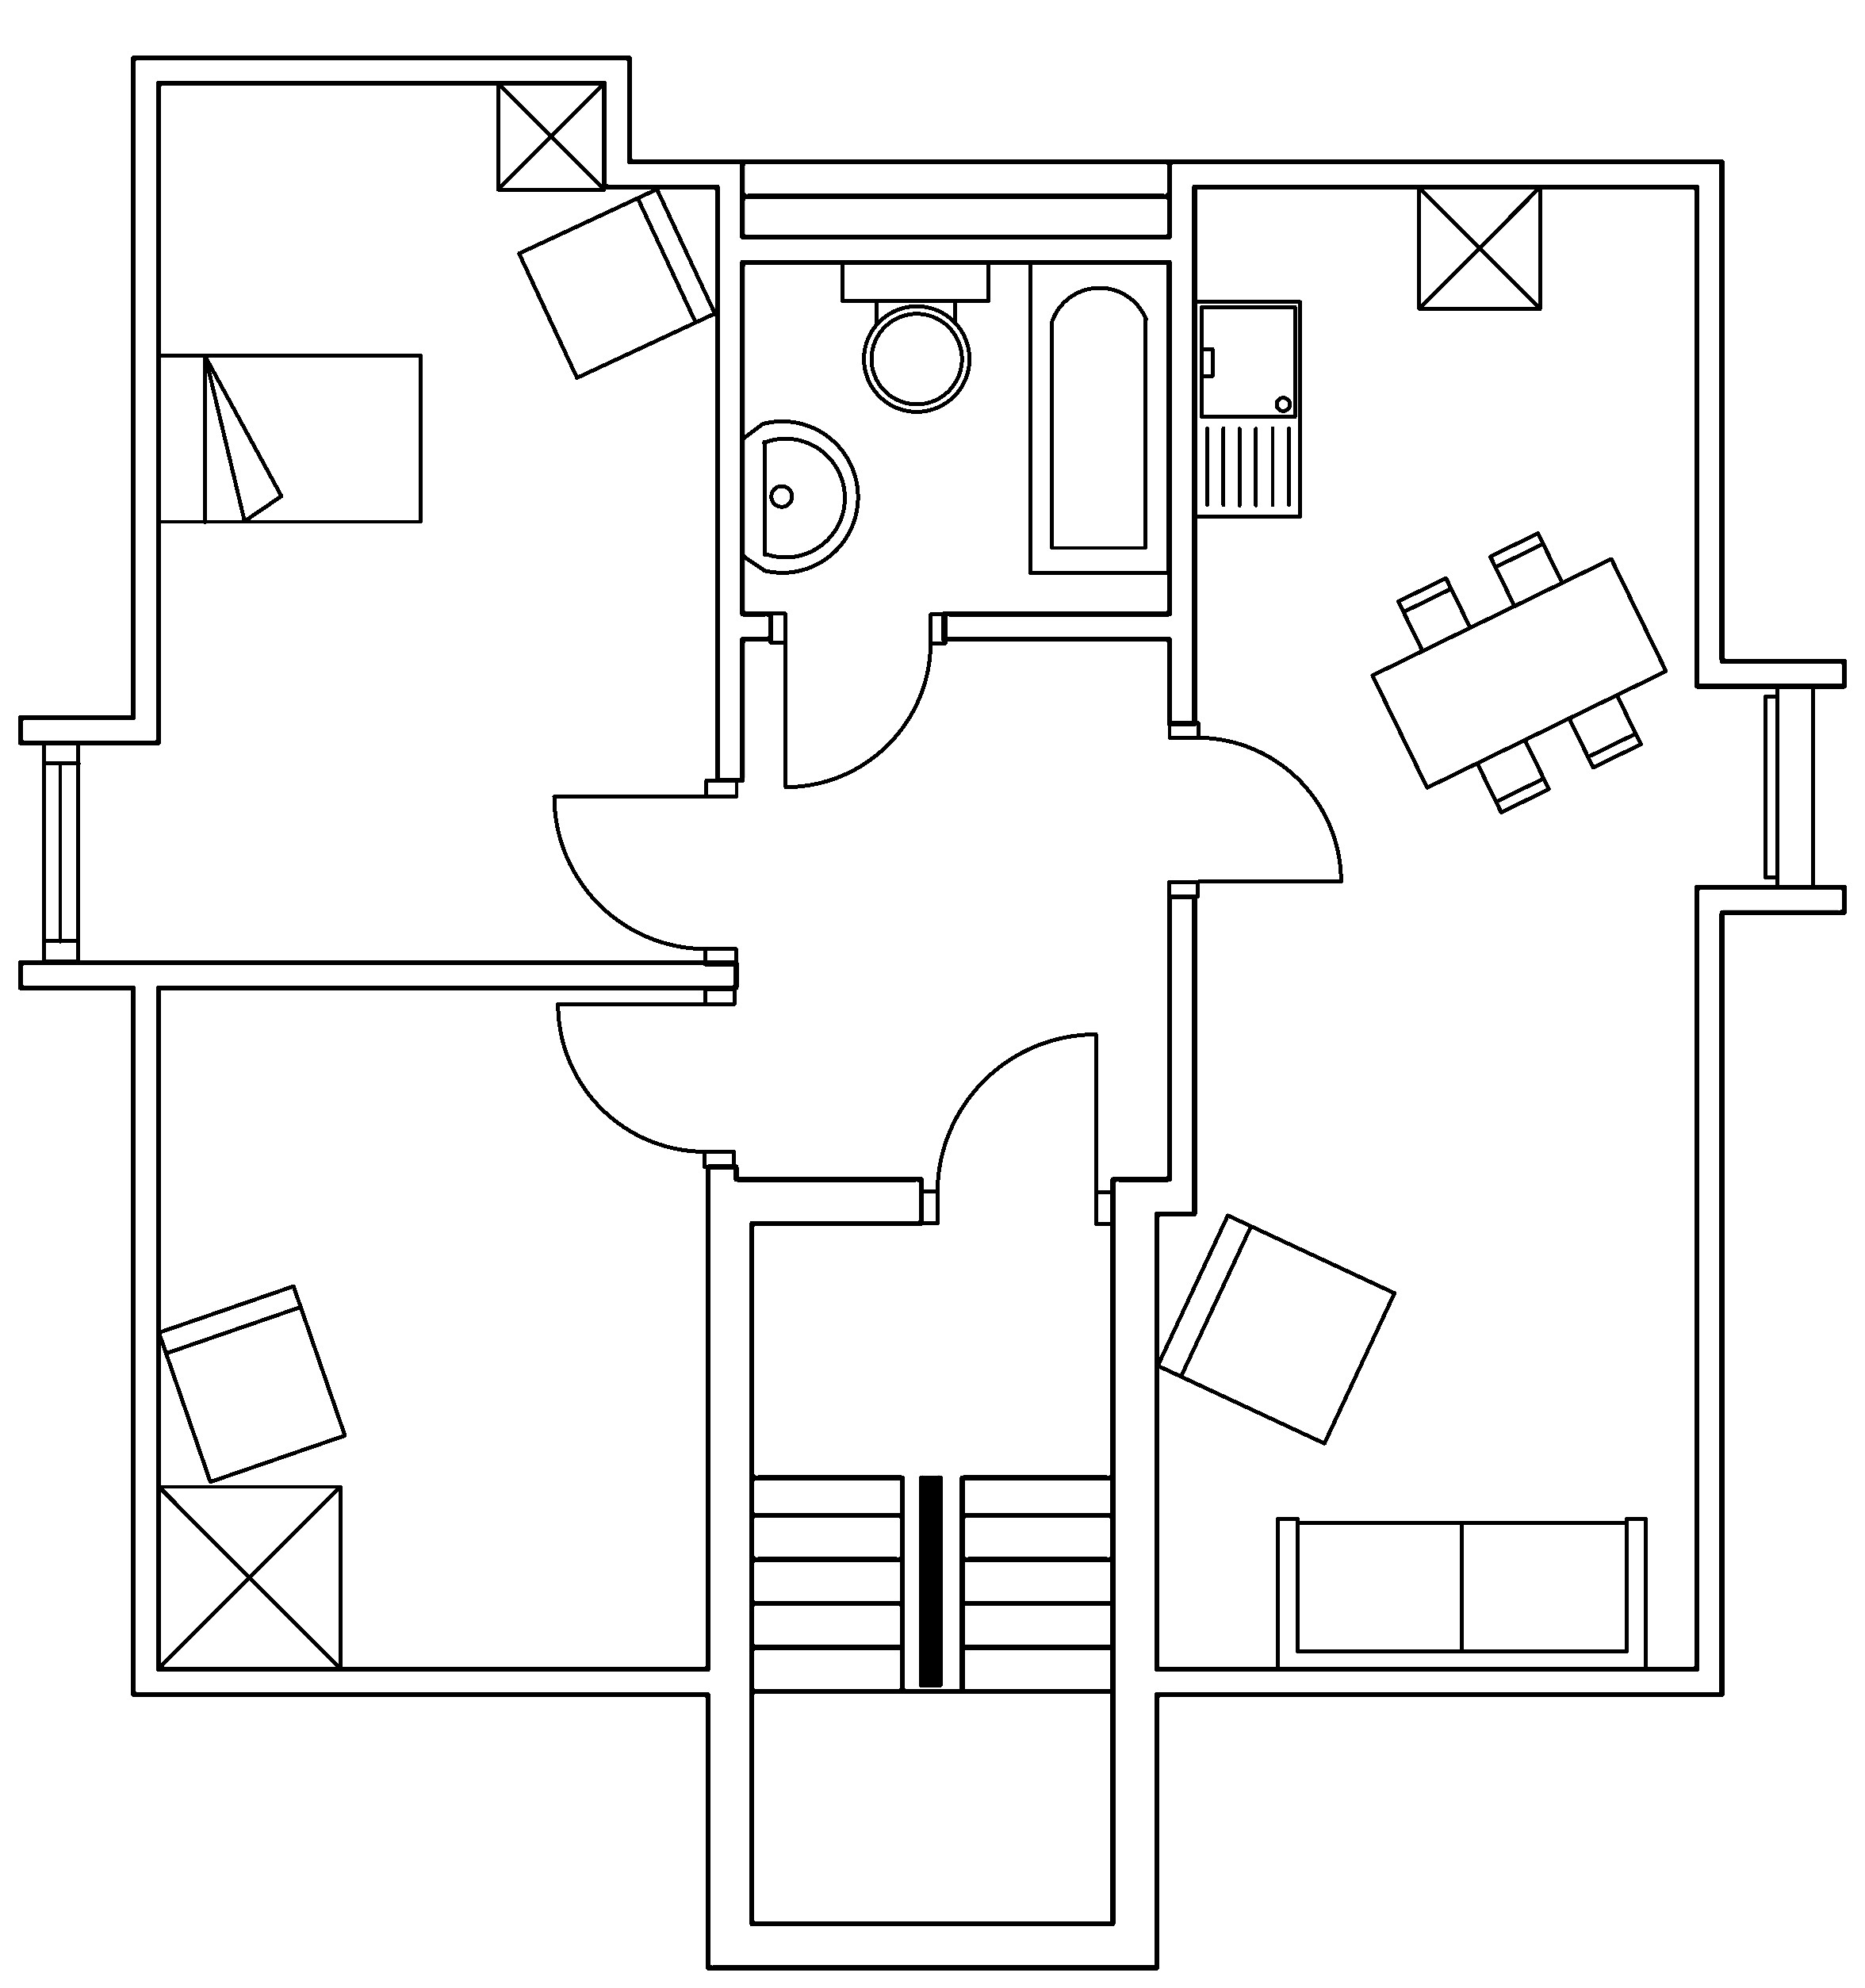bed: (154, 351, 424, 524)
coffee_table: (154, 1481, 342, 1671), (1416, 182, 1542, 310), (494, 79, 606, 191)
dining_table: (1369, 529, 1669, 815)
large_sink: (840, 258, 990, 412)
large_sofa: (1274, 1515, 1648, 1672)
sink: (1192, 298, 1302, 519)
small_sink: (740, 419, 859, 573)
small_sofa: (1153, 1211, 1397, 1446), (515, 186, 717, 380), (156, 1282, 347, 1485)
tub: (1027, 258, 1171, 575)
